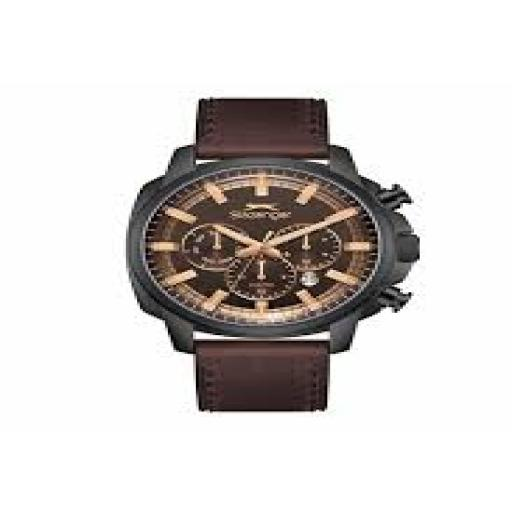KolSaati: (127, 78, 414, 437)
